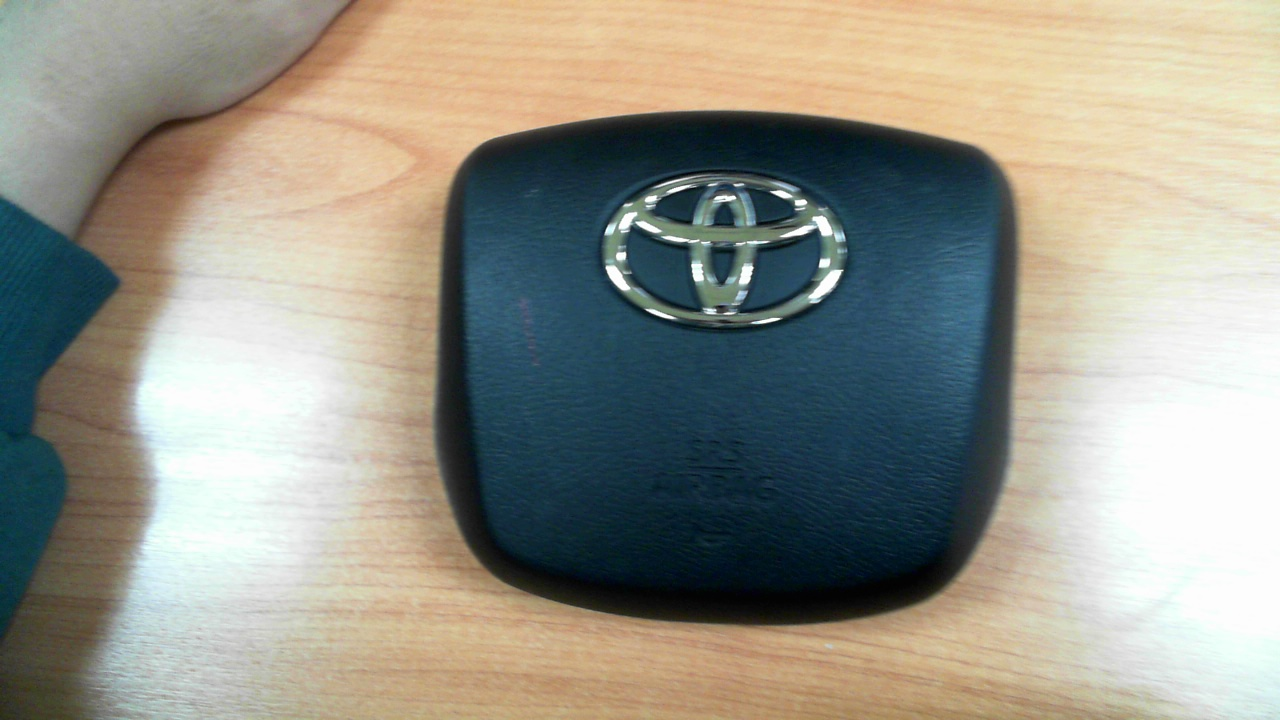Airbag: (432, 110, 1018, 627)
Toyota: (601, 173, 848, 327)
